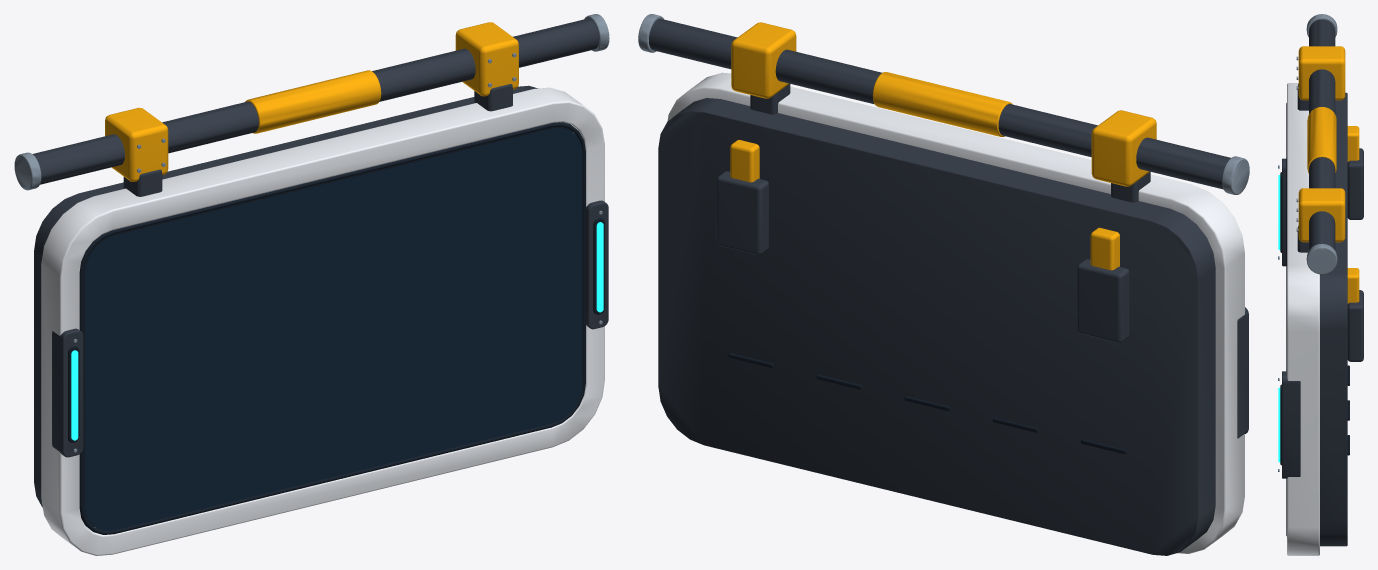
The model's file is weapon_shop_display.fbx.
The picture shows the model from 3 angles, left to right: view 1: azimuth 30°, elevation 25°; view 2: azimuth 150°, elevation 25°; view 3: azimuth 270°, elevation 25°; orthographic projection. The views are drawn at different scales.
Visible parts, largest first — view 1: weapon_shop_display_screen, weapon_shop_display_body; view 2: weapon_shop_display_body; view 3: weapon_shop_display_body.
Boxes of the visible parts, x1,y1,x2,y2 form: weapon_shop_display_screen: [85, 128, 582, 530]; weapon_shop_display_body: [14, 14, 609, 555]; weapon_shop_display_body: [638, 14, 1249, 555]; weapon_shop_display_body: [1278, 14, 1363, 555].
Bounding box in the file's own units: 3.03 × 2.05 × 0.47.
